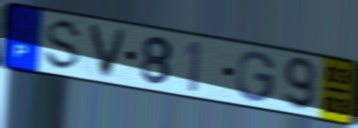1: (183, 40, 203, 94)
8: (139, 34, 173, 87)
9: (281, 56, 320, 112)
G: (234, 50, 278, 104)
S: (41, 18, 86, 73)
V: (85, 21, 132, 81)
